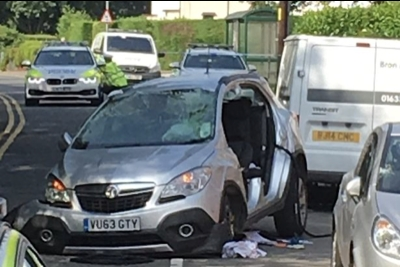Plate: (83, 214, 140, 233), (312, 130, 361, 142)
